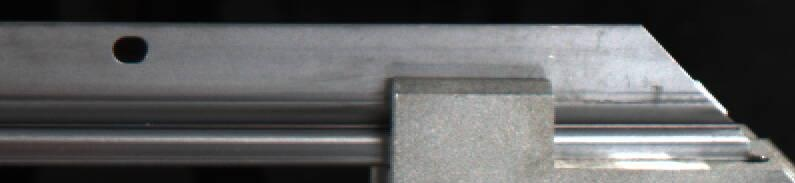cut: (552, 20, 763, 166)
holes: (111, 33, 150, 64)
